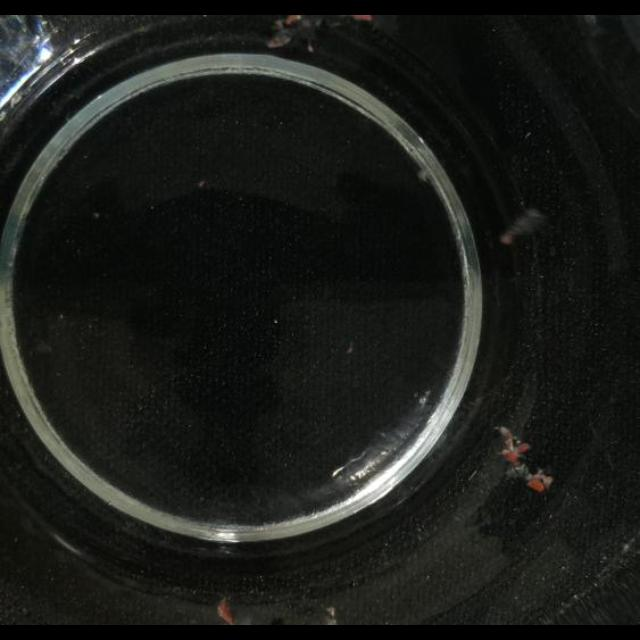Fragment: (257, 15, 393, 59), (490, 422, 554, 498), (500, 207, 544, 253), (208, 595, 248, 625)
